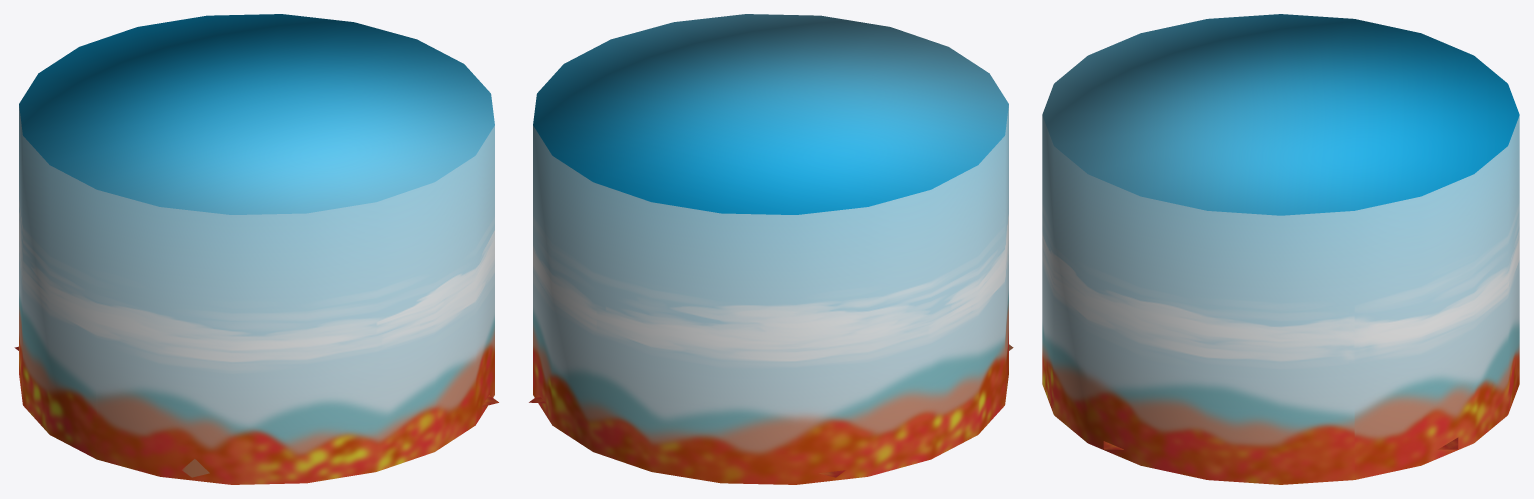
The model's file is Sky_Aki.fbx.
The picture shows the model from 3 angles, left to right: view 1: azimuth 30°, elevation 25°; view 2: azimuth 150°, elevation 25°; view 3: azimuth 270°, elevation 25°; orthographic projection.
Visible parts, largest first — view 1: OBJ_Background; view 2: OBJ_Background; view 3: OBJ_Background.
Part boxes in pixels (x1,y1,x2,y2): OBJ_Background: (19,14,494,484); OBJ_Background: (533,14,1008,484); OBJ_Background: (1042,14,1519,484).
Bounding box in the file's own units: 904 × 563 × 904.
2 materials, 2 textured.
